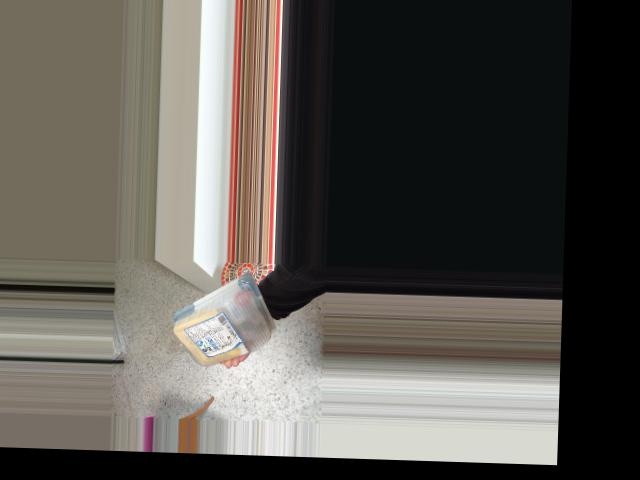cheese: (164, 264, 281, 376)
